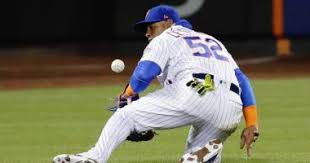baseball: (109, 57, 126, 75)
baseball player: (49, 4, 259, 163)
